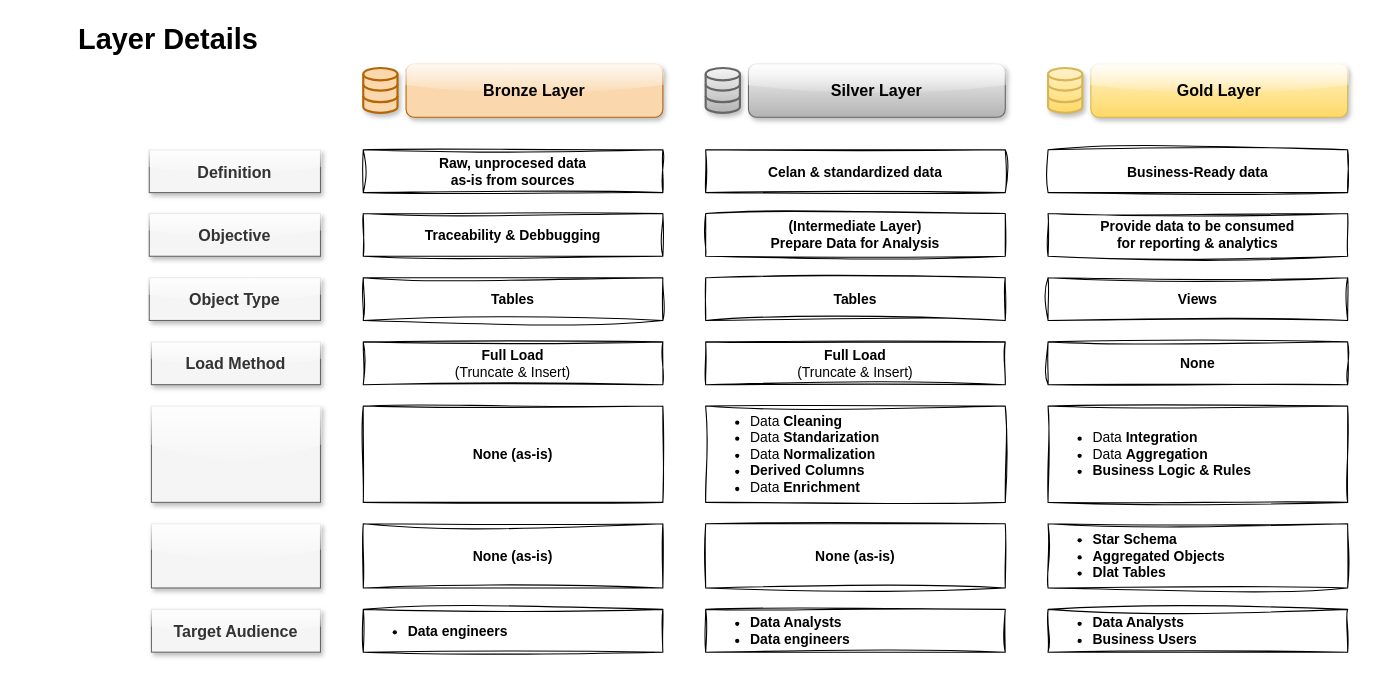
Image size: 1373x678. Some labels were removed from this diagram. The shapes that lost their labels are listed below. From the top down, each one's centre as x and y in pixels, then its label:
(x=236, y=455): Data Transformation
(x=236, y=556): Data Modeling
